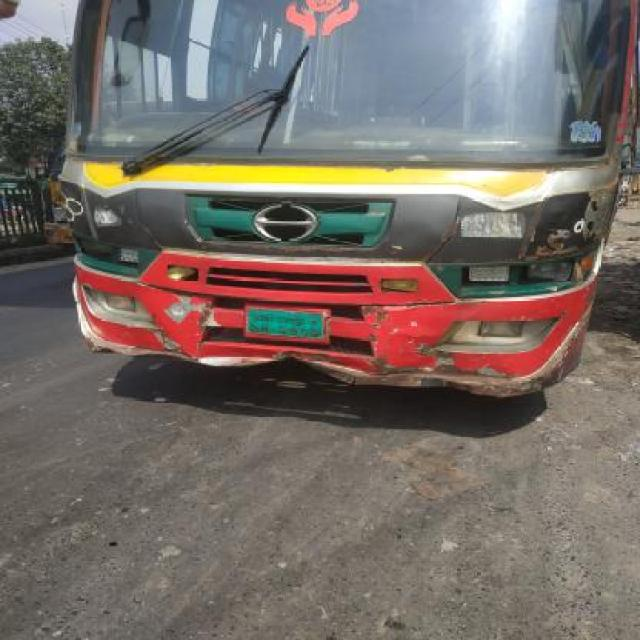numberplate: (242, 304, 331, 344)
